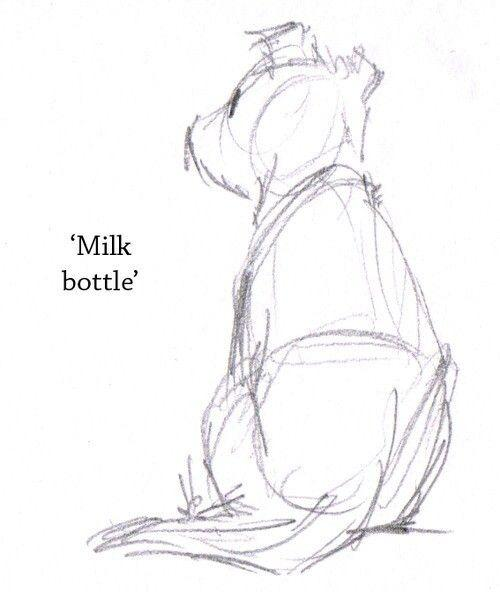adult_dog: (87, 22, 464, 579)
